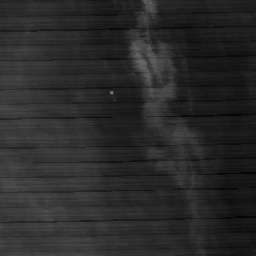Target: (107, 89, 114, 96)
